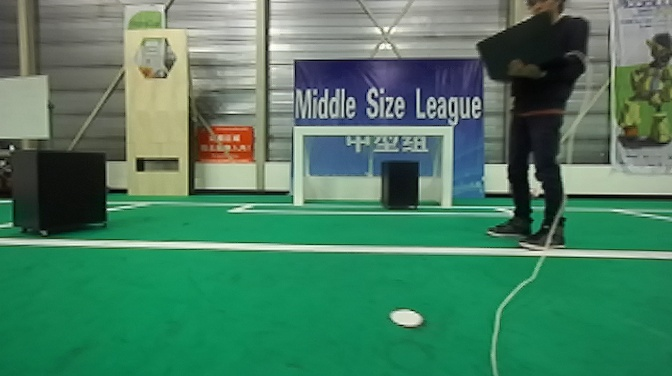goalpost: (437, 123, 456, 211), (290, 124, 306, 205)
human: (485, 5, 585, 262)
